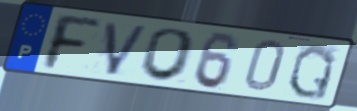0: (241, 38, 287, 94)
6: (191, 30, 241, 91)
F: (41, 12, 103, 73)
O: (137, 26, 199, 83)
Q: (285, 42, 338, 102)
V: (103, 20, 152, 78)
